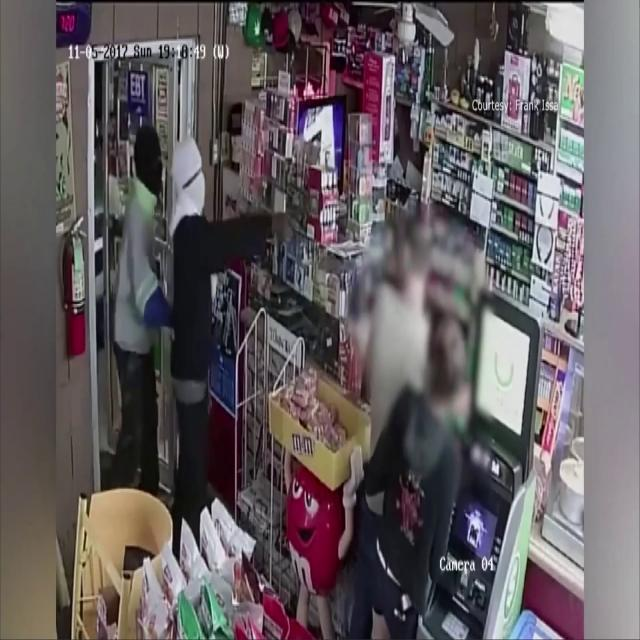Gun: (276, 200, 316, 242)
